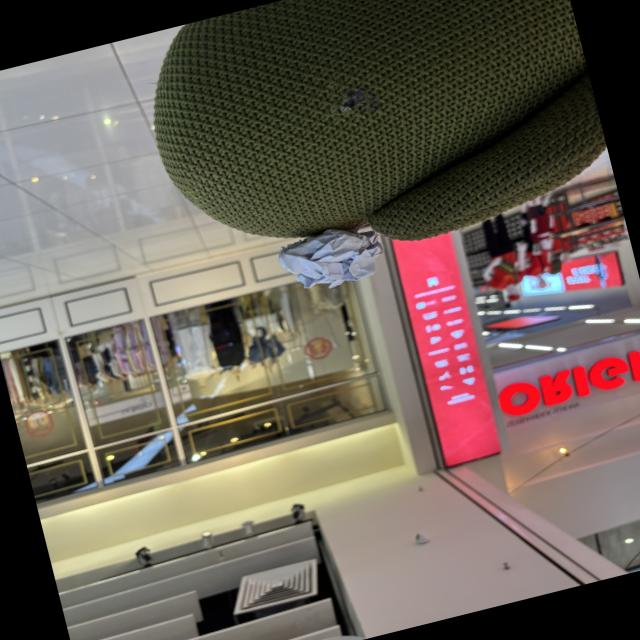crumpled_paper: (268, 210, 396, 304)
